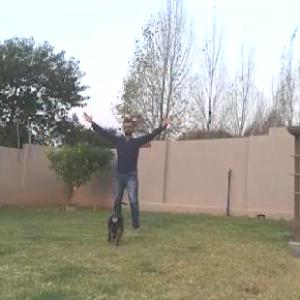takeoff: (89, 112, 181, 226)
